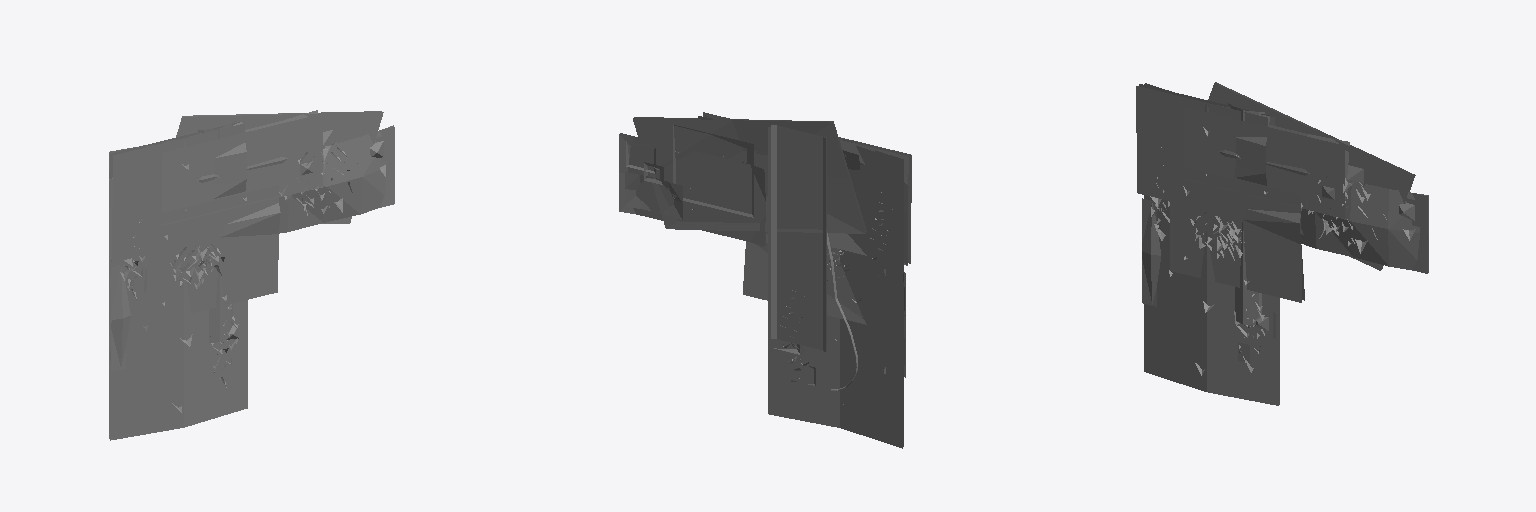
Rendered from Right_Ivy_Dying.obj.
3 renders of one model, left to right at view 1: azimuth 30°, elevation 25°; view 2: azimuth 150°, elevation 25°; view 3: azimuth 330°, elevation 25°, orthographic.
Visible parts, largest first — view 1: Right_Ivy_Dying_LOD2, Right_Ivy_Dying_LOD0; view 2: Right_Ivy_Dying_LOD0, Right_Ivy_Dying_LOD2; view 3: Right_Ivy_Dying_LOD2, Right_Ivy_Dying_LOD0.
Part boxes in pixels (left/top/right/bottom): Right_Ivy_Dying_LOD2: left=110, top=112, right=394, bottom=440; Right_Ivy_Dying_LOD0: left=109, top=110, right=393, bottom=438; Right_Ivy_Dying_LOD0: left=619, top=116, right=908, bottom=448; Right_Ivy_Dying_LOD2: left=620, top=112, right=911, bottom=446; Right_Ivy_Dying_LOD2: left=1136, top=83, right=1427, bottom=405; Right_Ivy_Dying_LOD0: left=1139, top=82, right=1428, bottom=404.
Size of the model in its own units: 305 by 313 by 24.92.